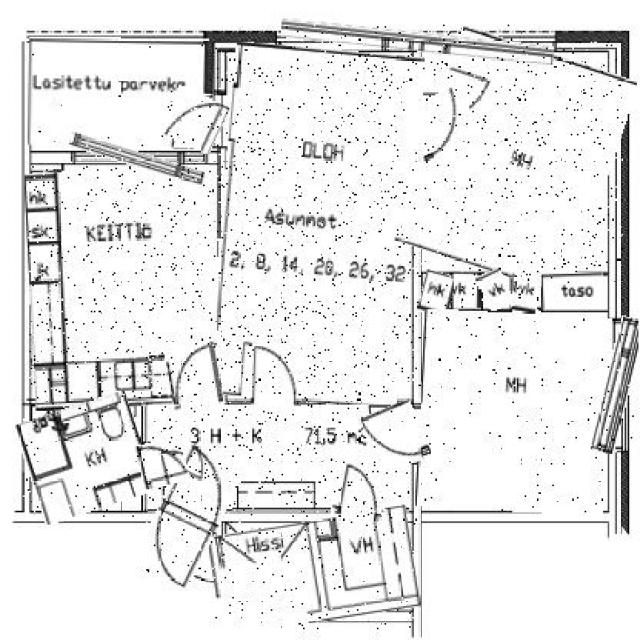door: (146, 448, 232, 584), (405, 91, 477, 155), (363, 402, 426, 471), (168, 343, 223, 414), (162, 89, 226, 149), (252, 344, 302, 416), (334, 462, 386, 520), (137, 439, 186, 486)
window: (280, 24, 554, 59), (598, 317, 638, 454), (69, 143, 205, 175)
zone: (214, 46, 418, 405), (409, 38, 623, 284), (28, 166, 218, 409), (417, 312, 611, 512), (148, 406, 409, 514), (211, 514, 417, 629), (29, 37, 214, 148), (22, 400, 149, 517), (543, 274, 605, 309), (418, 271, 456, 315), (482, 269, 512, 309), (30, 171, 64, 206), (512, 274, 540, 314), (32, 237, 60, 277), (455, 270, 483, 308), (30, 204, 61, 233)
